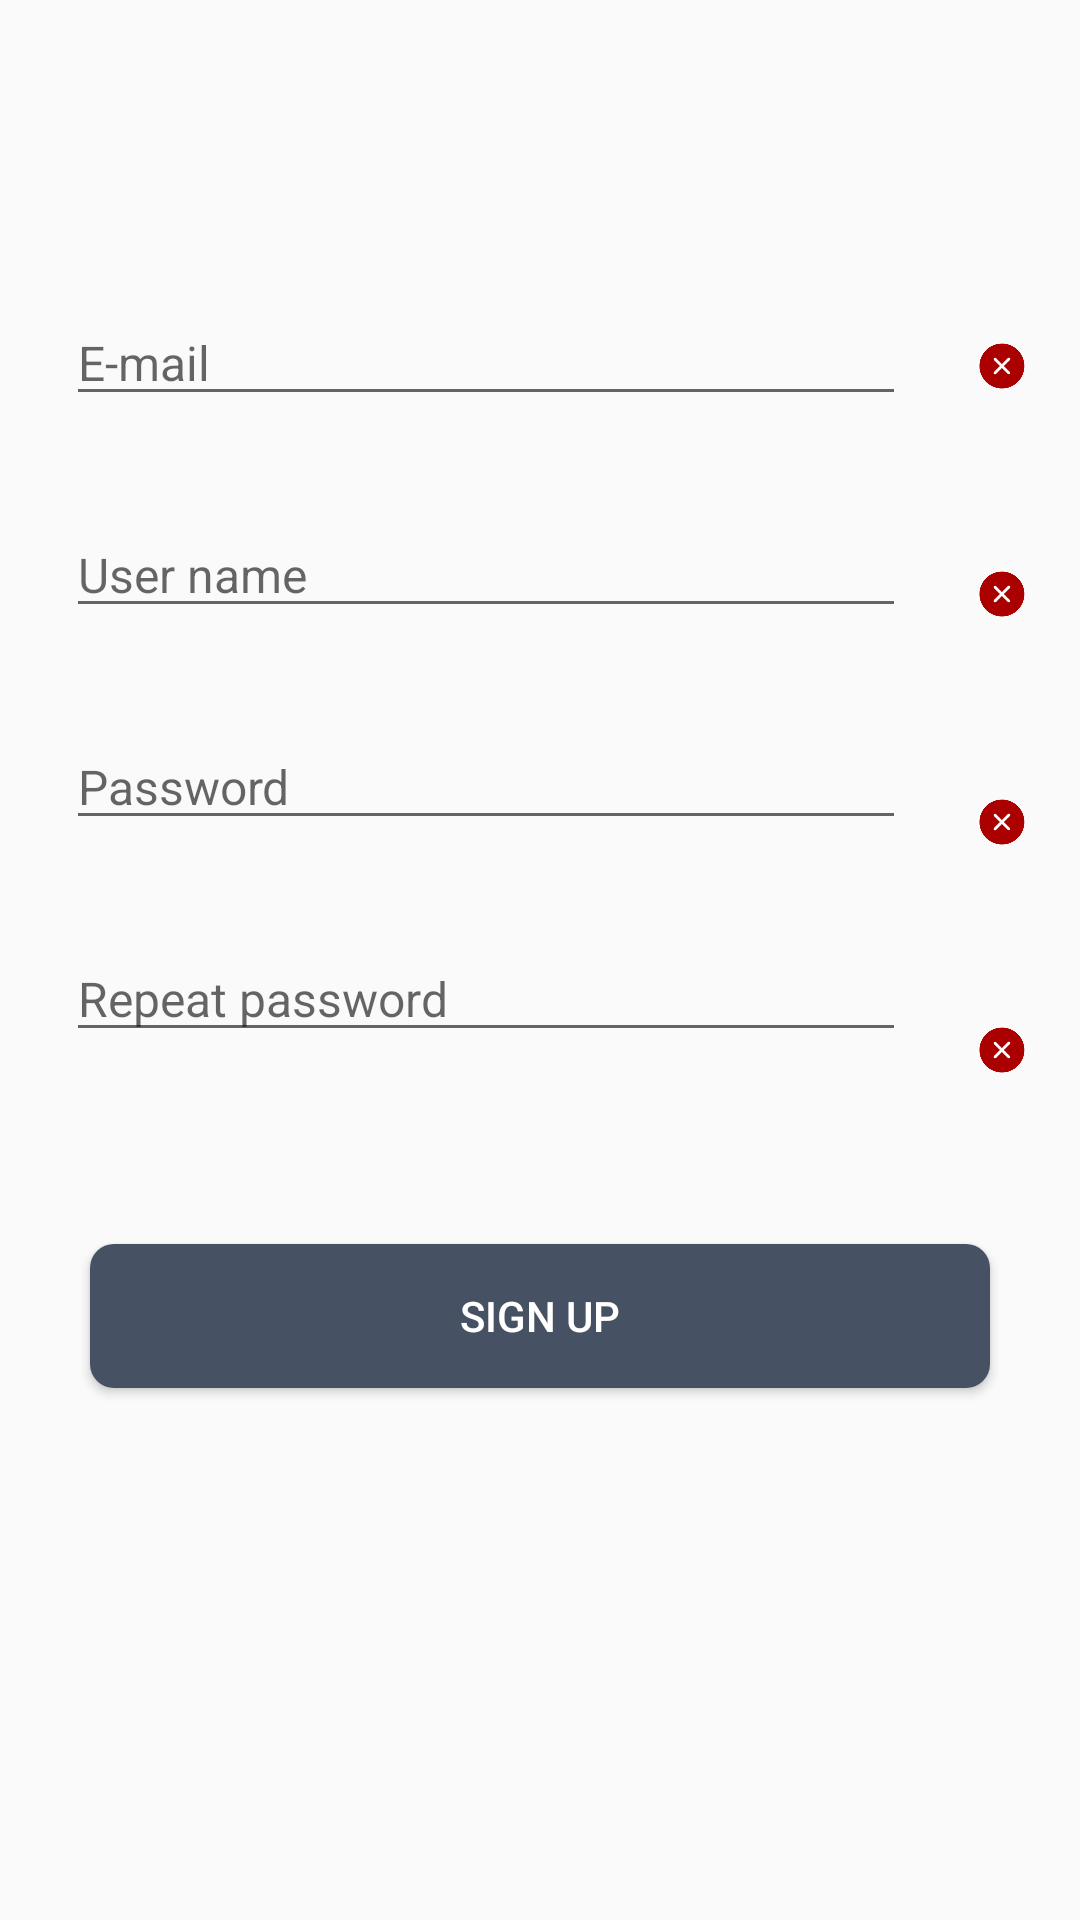

Icons on this 1080×1920 Android screen, each with the point to tap as (x=x, y=y):
wrong: (x=1002, y=366), (x=1002, y=594), (x=1002, y=822), (x=1002, y=1050)
